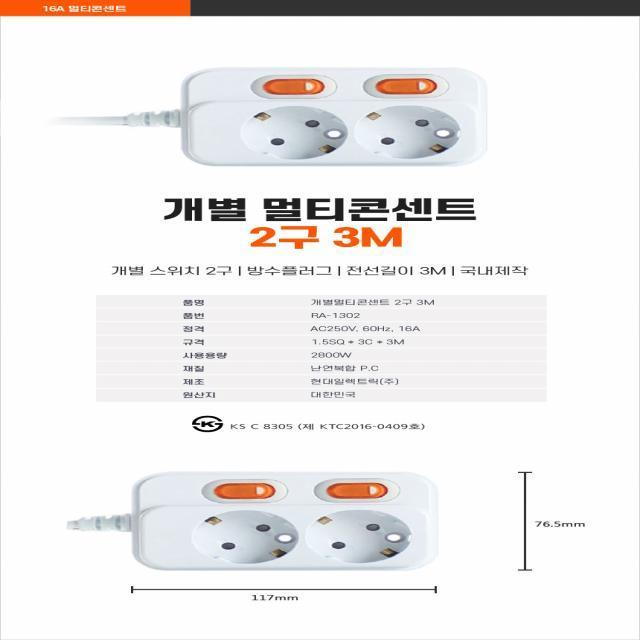typeb: (187, 71, 497, 163), (193, 507, 414, 568)
